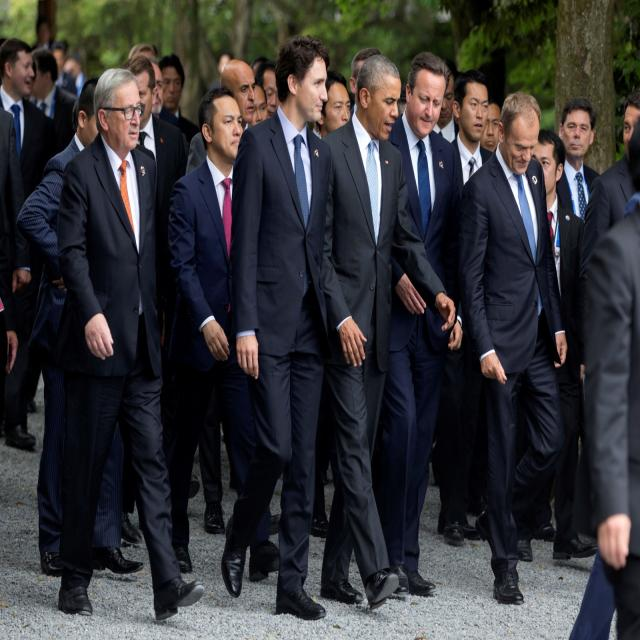body: (51, 63, 208, 627), (310, 50, 460, 617), (218, 32, 339, 626), (14, 73, 146, 578), (455, 85, 571, 609), (163, 85, 279, 582), (378, 50, 463, 597), (112, 51, 190, 548), (529, 126, 599, 566), (0, 34, 58, 452), (305, 66, 355, 541), (123, 54, 192, 377), (208, 41, 388, 139), (577, 88, 640, 326), (0, 26, 25, 454), (185, 57, 257, 179), (433, 60, 514, 162), (550, 94, 606, 226), (446, 66, 496, 200), (558, 98, 602, 225), (32, 10, 88, 103), (31, 48, 78, 144), (122, 31, 165, 123)
